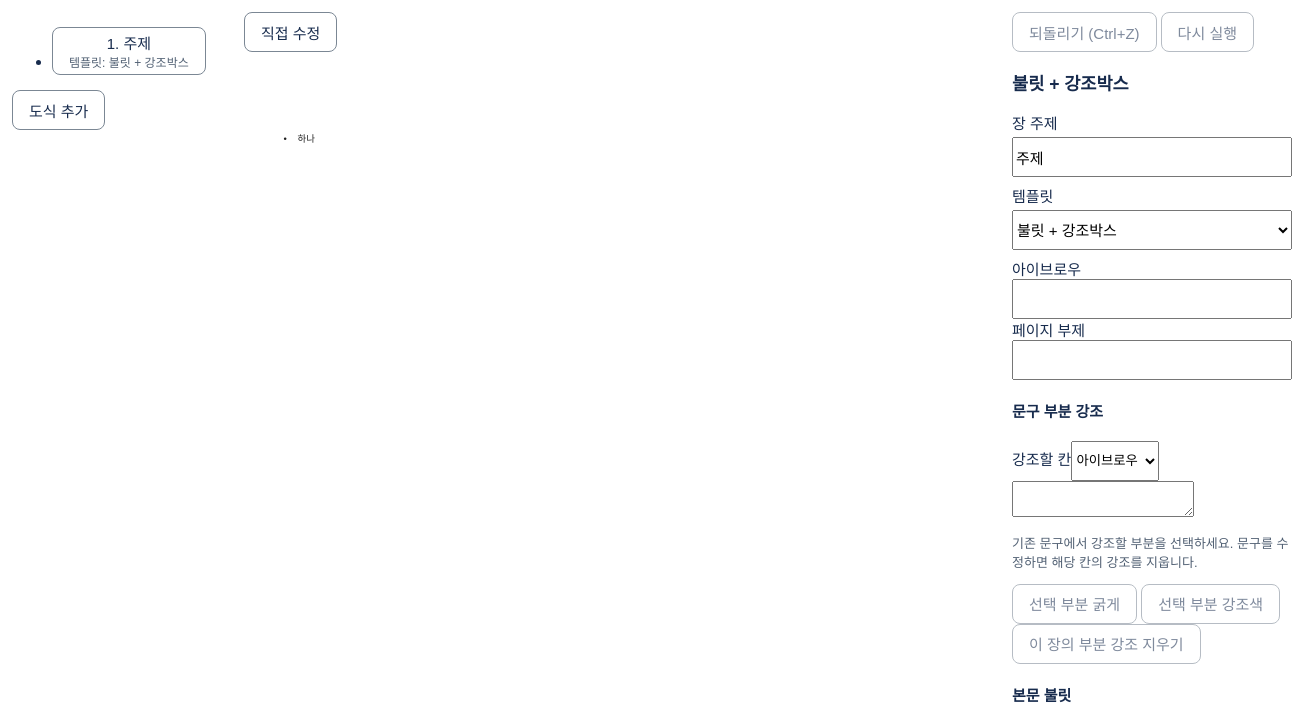
Scenario: 충돌(412)이면 안내와 '서버 내용으로 되돌리기' 버튼이 뜨고, 누르면 서버 덱으로 갱신된다 (A5)
Click the text "하나" at (306, 139), box [298,133,315,144]
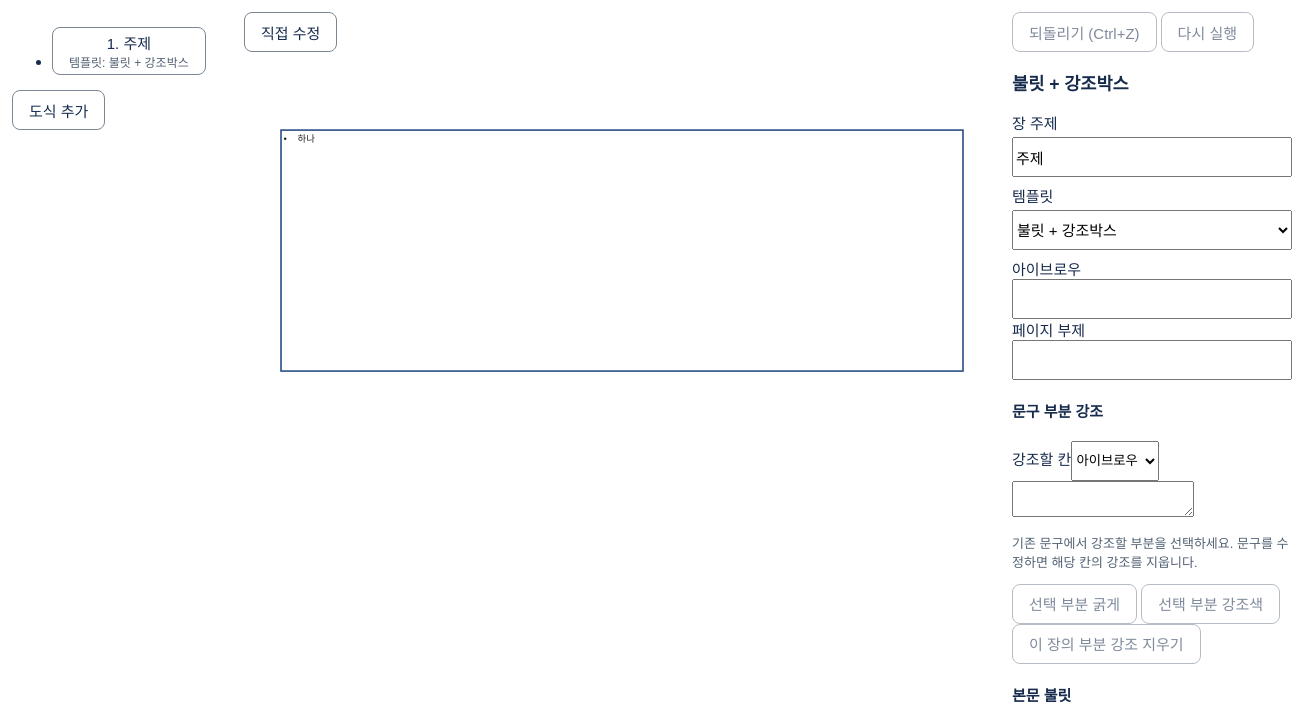
Click the text "하나" at (306, 139), box [298,133,315,144]
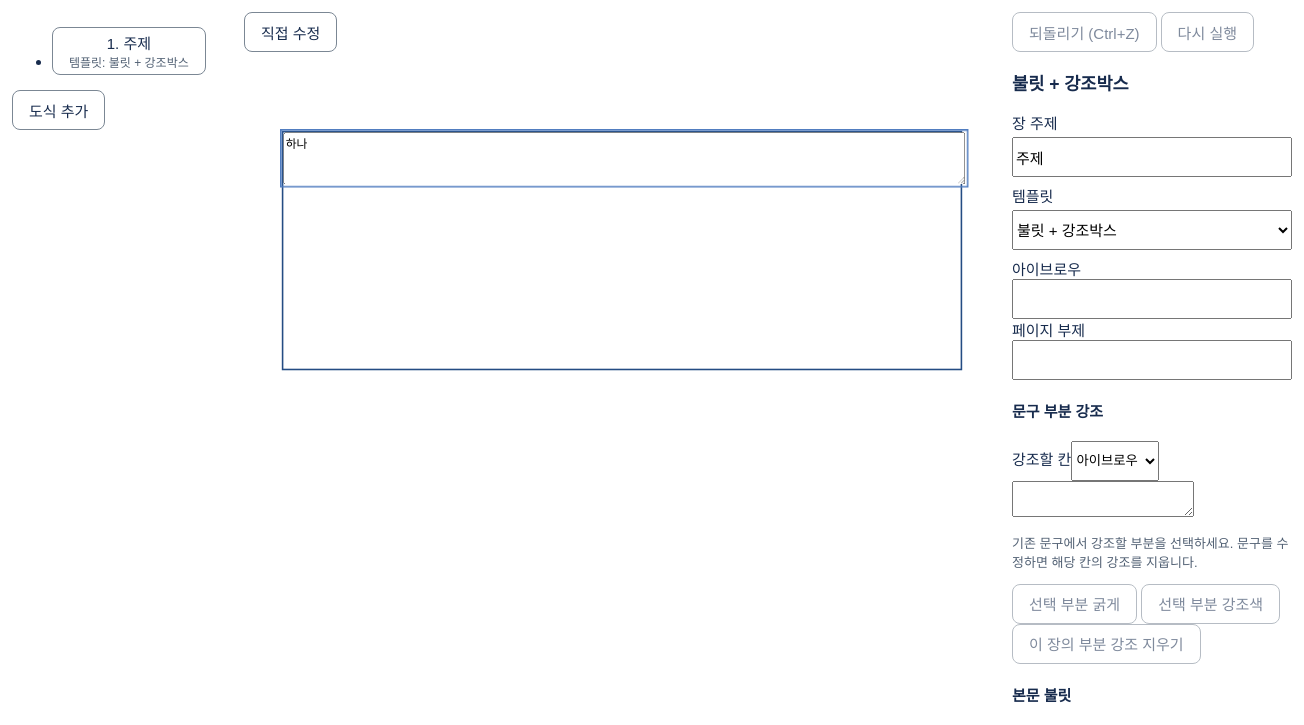
Replace the text in the text box named "내용 수정" with "고침" at (624, 158), box [283,132,965,184]
Then press Enter
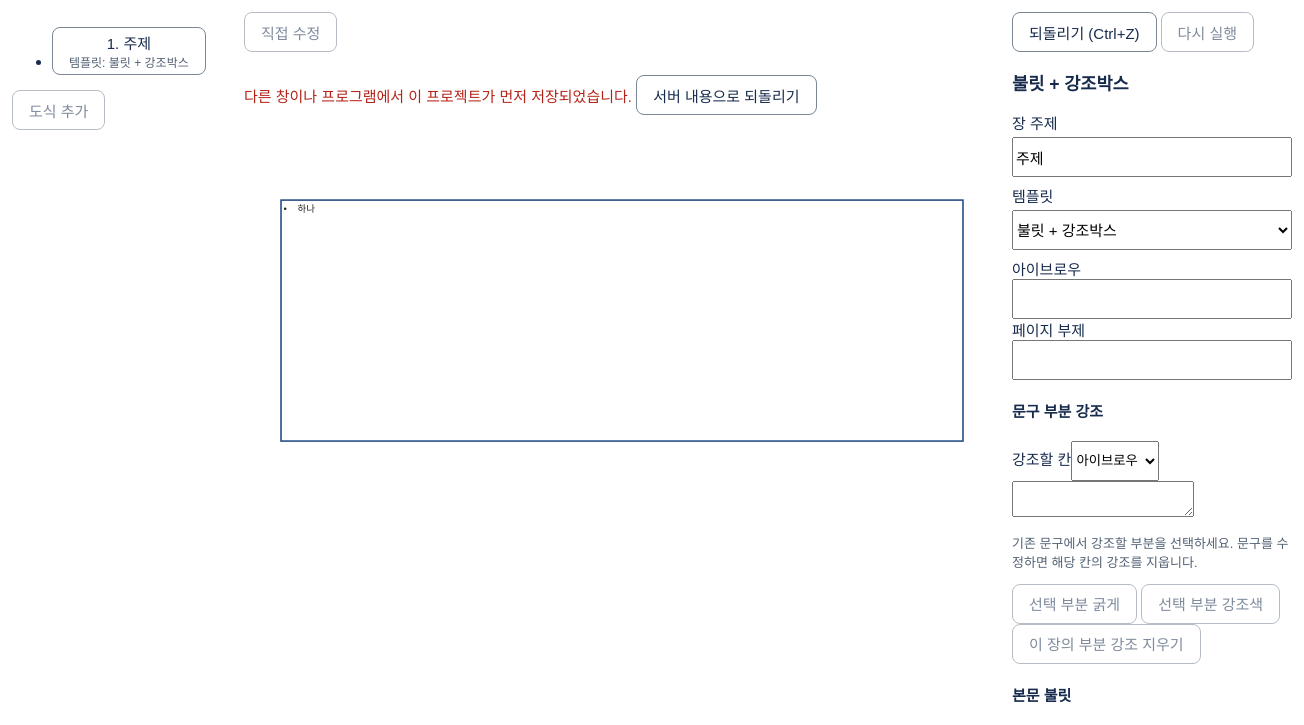
Click the button "서버 내용으로 되돌리기" at (726, 95), box [636,75,816,115]
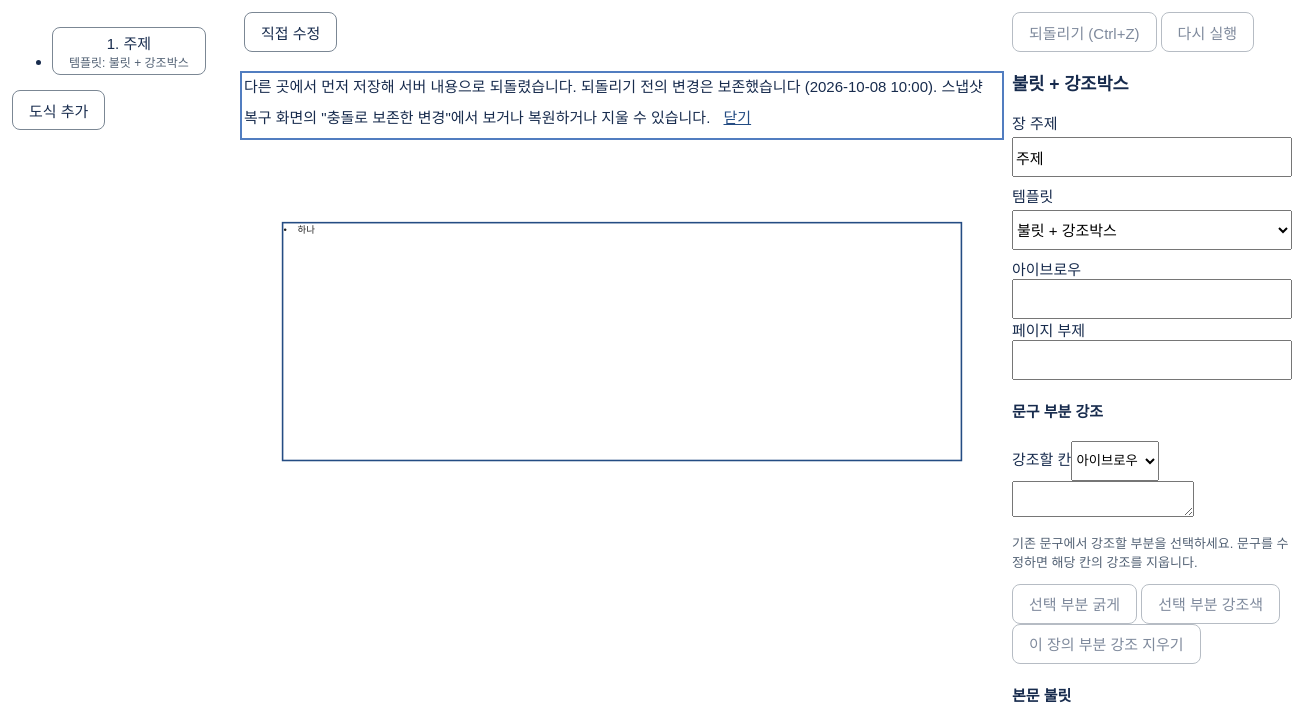
Expected: the button "서버 내용으로 되돌리기" is gone
